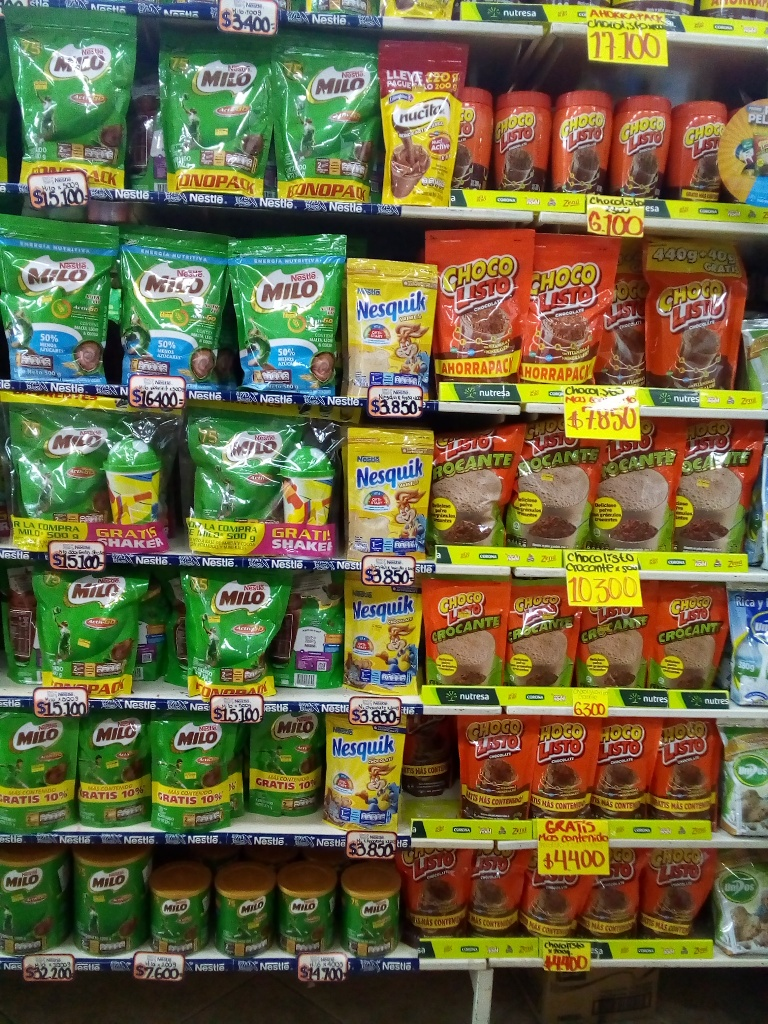COL0170102DYP50000: (430, 420, 526, 557)
COL0170103DYP44000: (418, 226, 531, 387)
COL0170103TRR30000: (450, 80, 493, 203)
COL0170203DYP50000: (2, 4, 140, 194)
COL0170203LAT40000: (148, 861, 211, 955)
COL0170205DYP50000: (2, 214, 122, 388)
COL0170303DYP20000: (320, 708, 405, 834)
COL0170306DYP20000: (344, 253, 437, 395)
